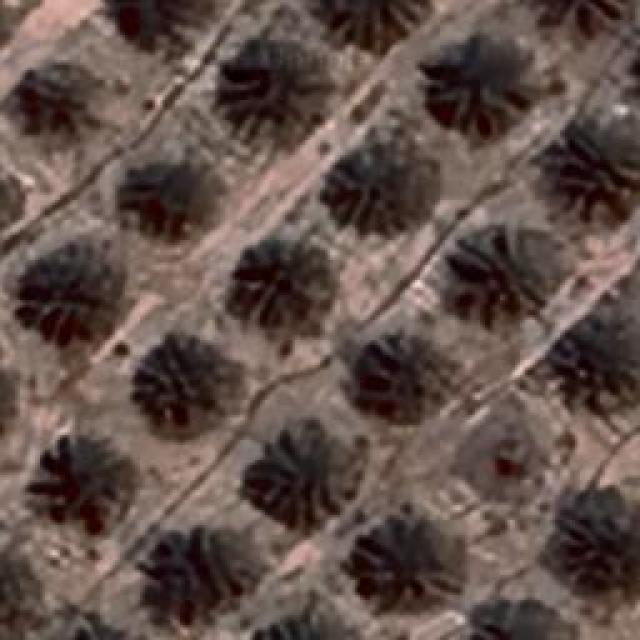PalmTree: (102, 24, 516, 619), (325, 148, 443, 234), (250, 435, 355, 523), (558, 115, 638, 227), (225, 42, 325, 130), (236, 240, 339, 325), (557, 492, 640, 595), (25, 248, 125, 332), (357, 525, 455, 610), (370, 330, 460, 420), (34, 442, 128, 526), (555, 300, 640, 392), (132, 344, 225, 428), (427, 50, 535, 120), (460, 227, 545, 315), (158, 538, 254, 614), (120, 161, 210, 234), (320, 0, 430, 48), (530, 0, 639, 40), (26, 59, 86, 109), (262, 614, 368, 638), (0, 551, 33, 626), (48, 616, 140, 640), (0, 354, 15, 448), (0, 356, 11, 448)
